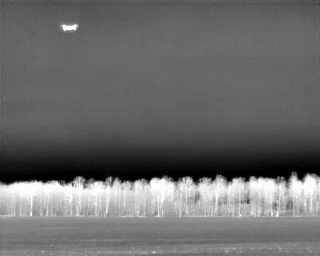DRONE: (57, 18, 82, 36)
